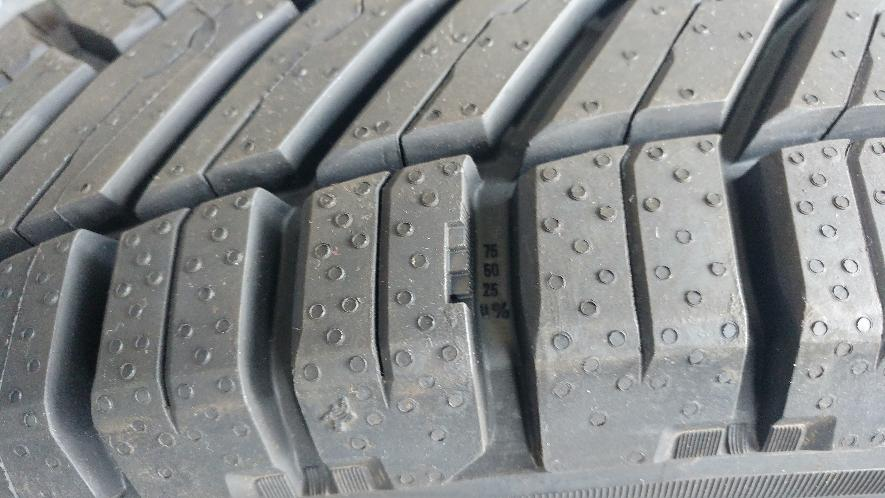temoin:100: (442, 204, 478, 320)
